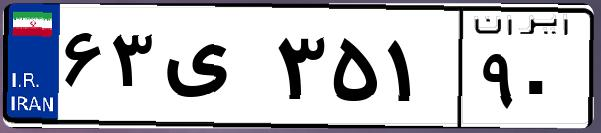0: (525, 38, 570, 115)
1: (385, 28, 445, 110)
3: (270, 28, 330, 110), (110, 28, 158, 98)
5: (330, 28, 385, 110)
6: (57, 26, 110, 100)
9: (475, 38, 525, 113)
ی: (158, 20, 270, 120)
